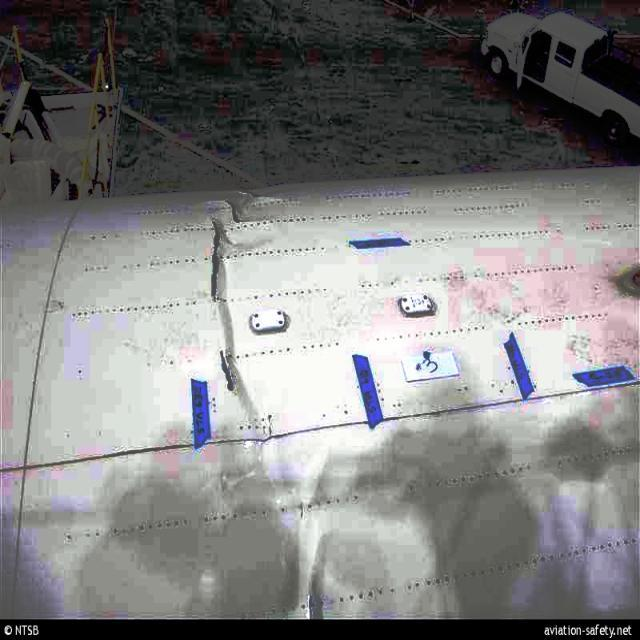crack: (205, 215, 230, 309), (215, 348, 242, 396), (220, 198, 245, 227)
